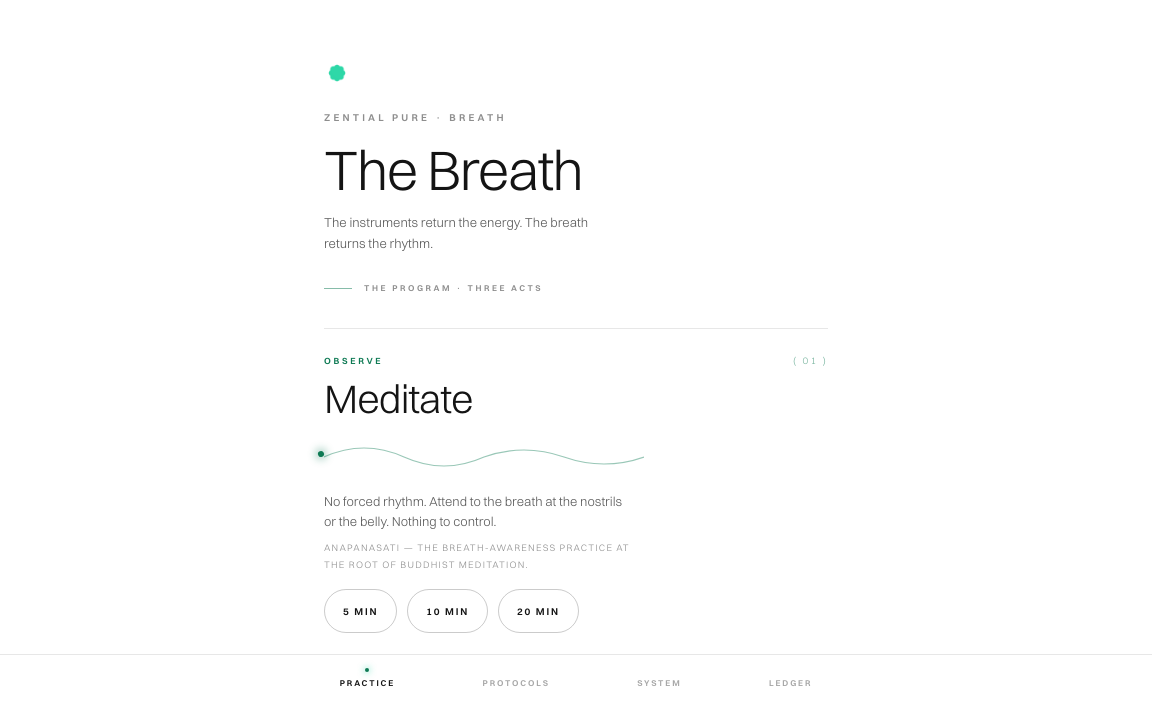
Test: Breath › a seeded ledger renders the continuity row and the entry name
Click the button "LEDGER" at coordinates (791, 684), box [761,661,820,706]
Wait 700 ms
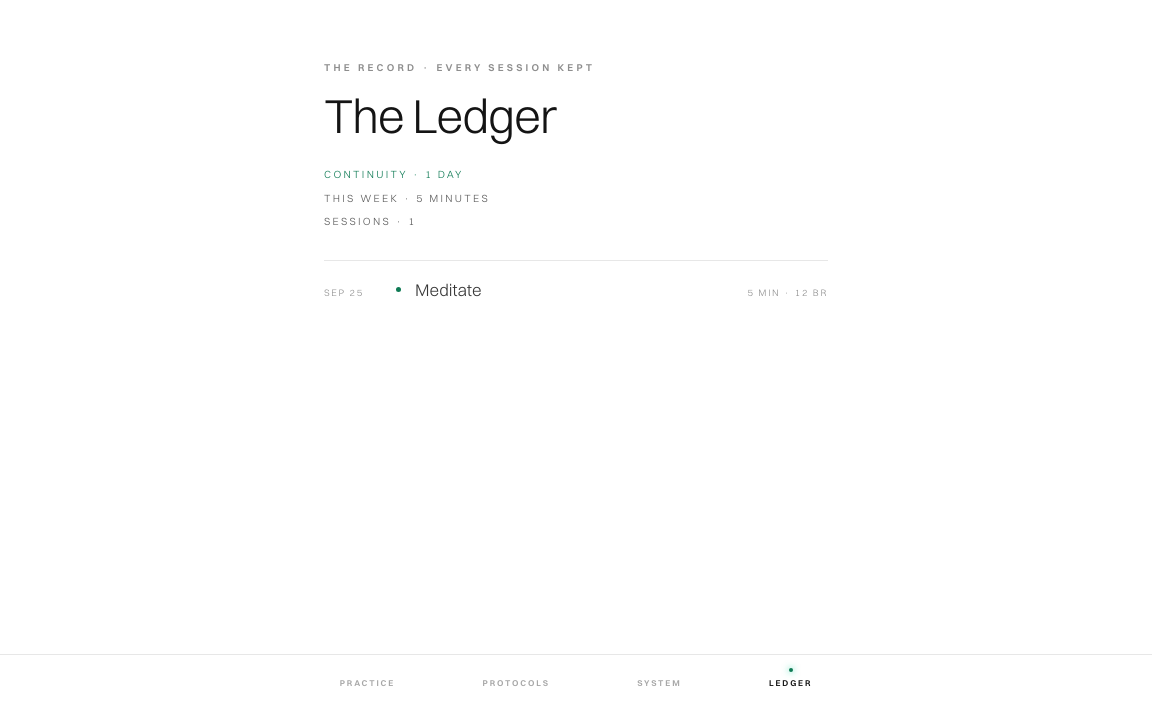
Expected: the text "Meditate" is shown, [415,279,482,300]
Expected: the text "CONTINUITY · 1 DAY" is shown, [324,168,464,181]
